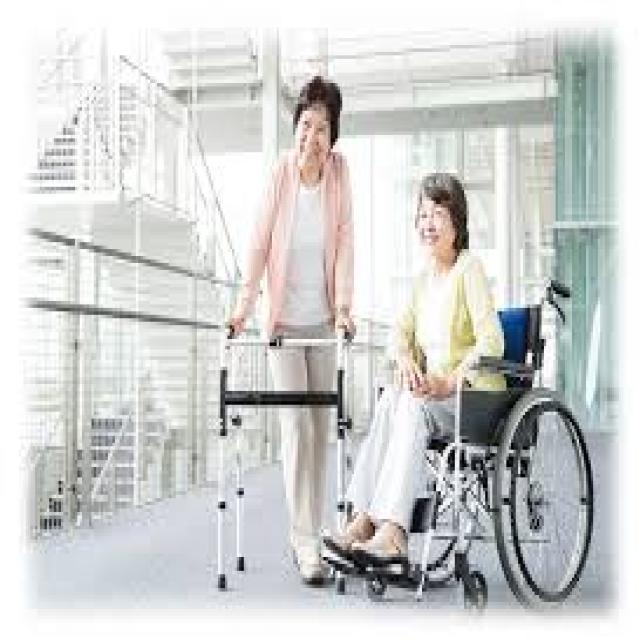wheelchairs: (305, 270, 612, 598)
